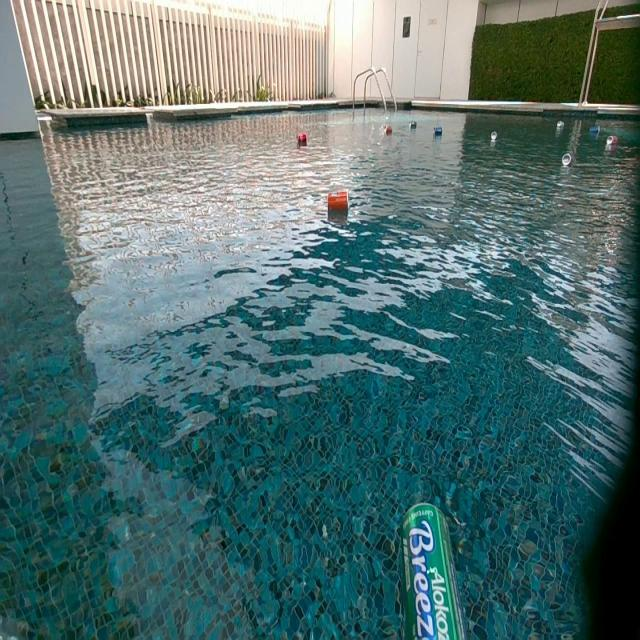Cans: (398, 502, 467, 640), (328, 192, 349, 212), (561, 152, 572, 166), (606, 136, 618, 148), (296, 134, 307, 146), (590, 125, 600, 136), (433, 128, 443, 138), (383, 126, 392, 137), (410, 119, 419, 128), (556, 118, 564, 128), (490, 132, 498, 141)
